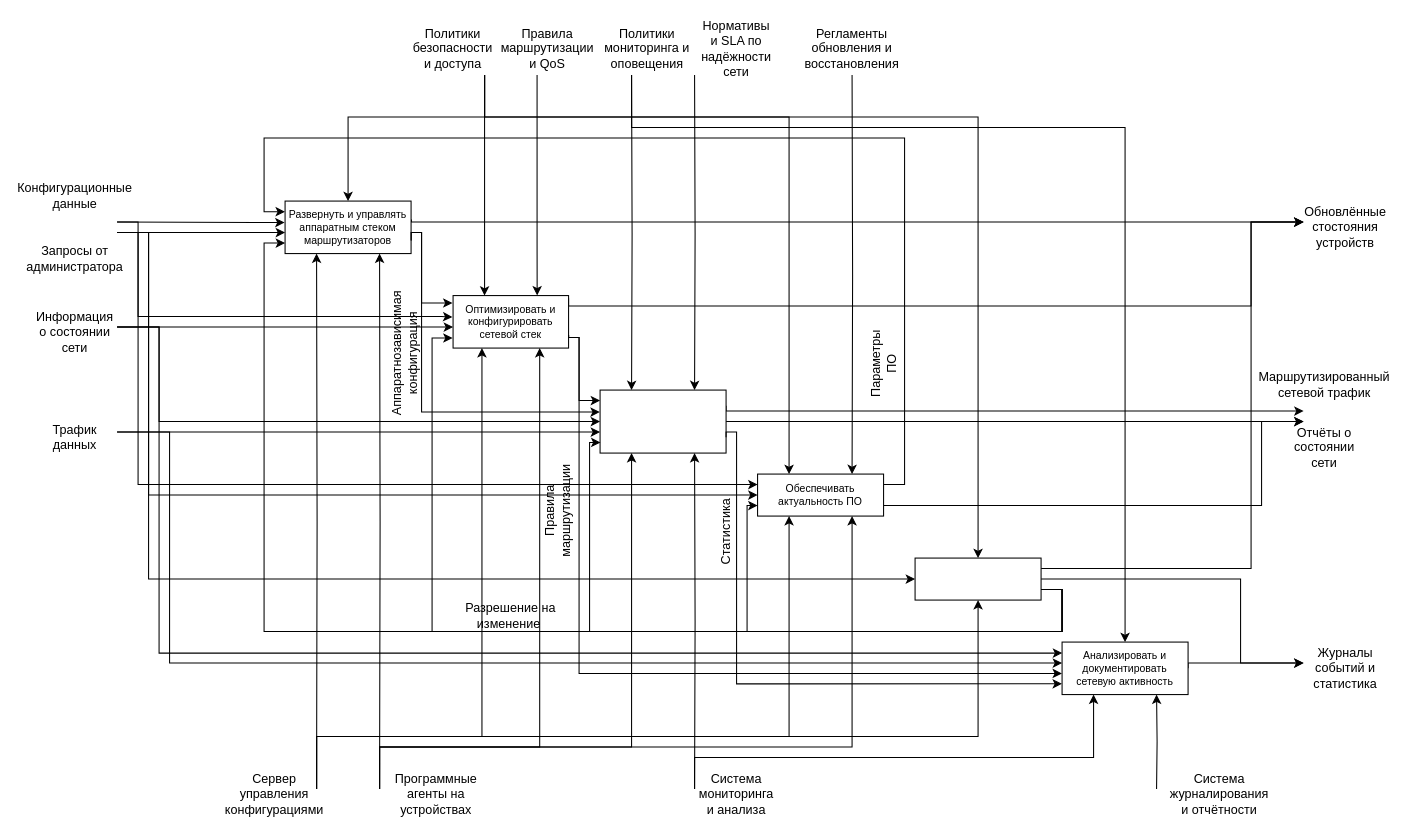
The diagram is 1408 pixels wide and 835 high, and some of its shapes have lost their labels. Each missing label, with the centre of its shape:
"Администрировать доступ и управлять ролями пользователей" goes at (977,578).
"Контролировать и поддерживать устойчивость сети" goes at (662,421).
